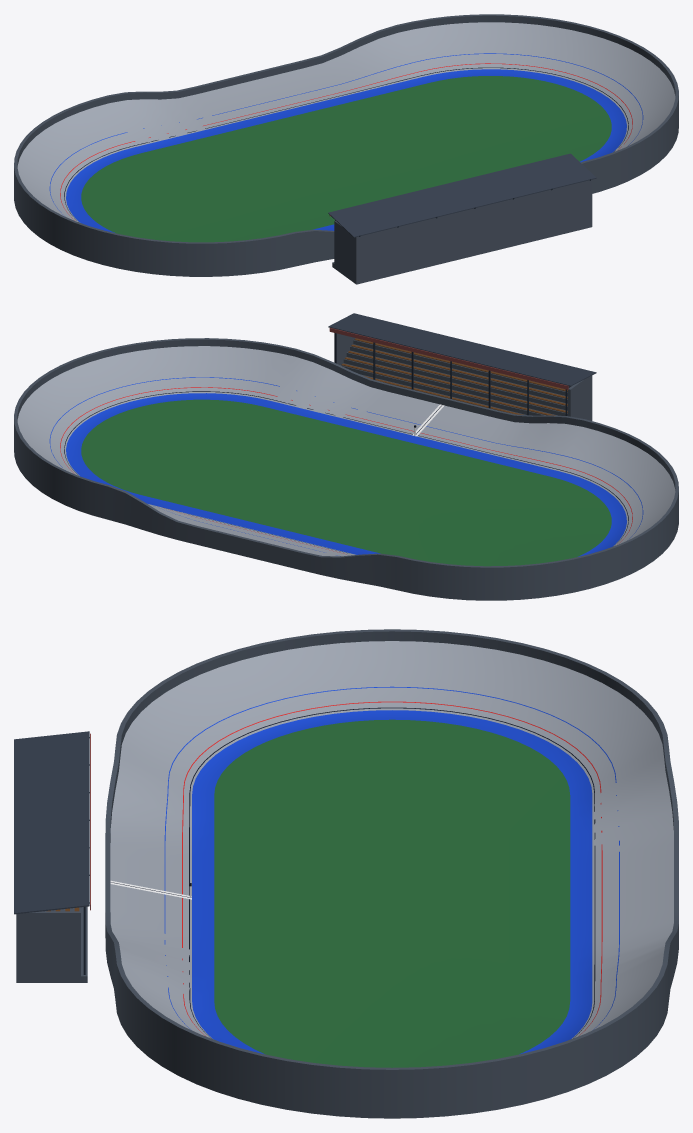
The model's file is velodrome_finish_arena.glb.
3 views of the same model, one above another, from view 1: azimuth 30°, elevation 25°; view 2: azimuth 150°, elevation 25°; view 3: azimuth 270°, elevation 25° (orthographic). The views are drawn at different scales.
Parts seen in each view (by area): view 1: Velodrome_Finish_Arena; view 2: Velodrome_Finish_Arena; view 3: Velodrome_Finish_Arena.
Part boxes in pixels (x1,y1,x2,y2): Velodrome_Finish_Arena: (14, 14, 678, 284); Velodrome_Finish_Arena: (14, 313, 678, 600); Velodrome_Finish_Arena: (14, 629, 678, 1118).
Bounding box in the file's own units: 93.76 × 7.95 × 59.8.
